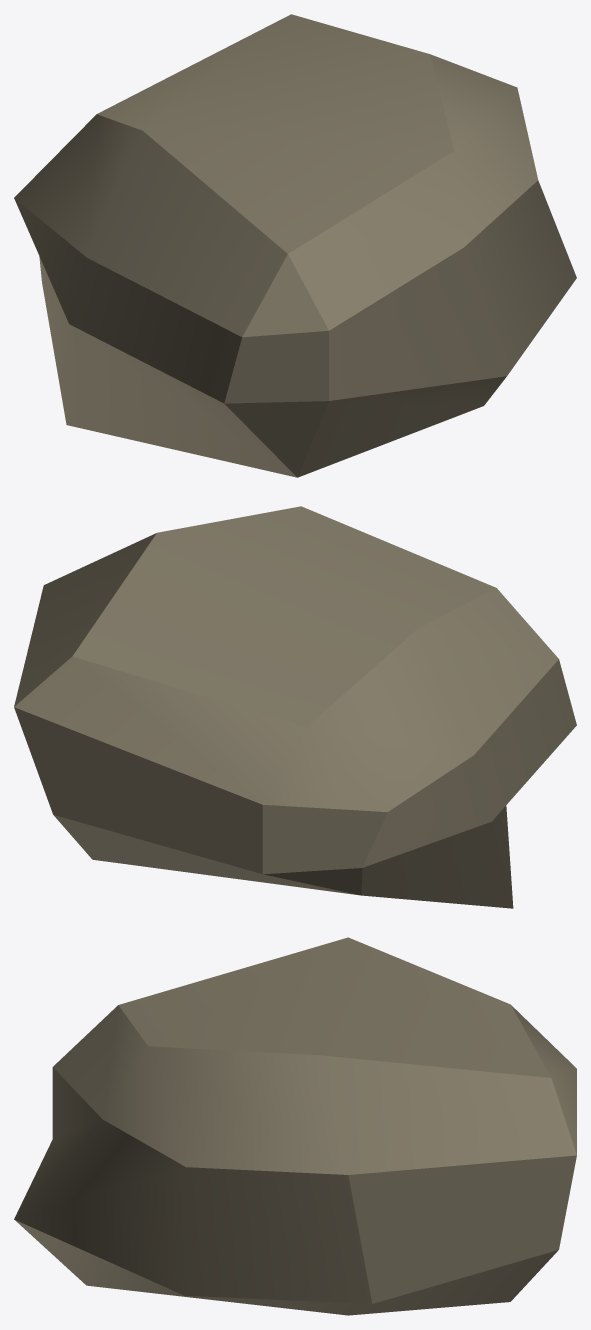
Rendered from Rock1.fbx.
3 renders of one model, top to bottom at view 1: azimuth 30°, elevation 25°; view 2: azimuth 150°, elevation 25°; view 3: azimuth 270°, elevation 25°, orthographic. The views are drawn at different scales.
Visible parts, largest first — view 1: Rock1; view 2: Rock1; view 3: Rock1.
Boxes of the visible parts, x1,y1,x2,y2 form: Rock1: [14, 14, 576, 477]; Rock1: [14, 506, 576, 908]; Rock1: [14, 937, 576, 1315].
Bounding box in the file's own units: 0.3657 × 0.2168 × 0.3766.
